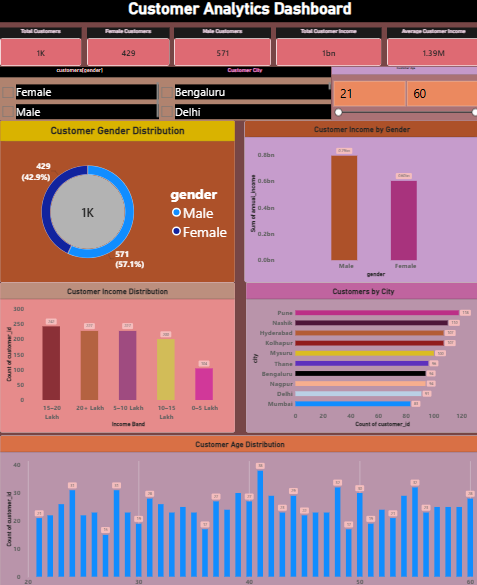

The dashboard page shown, as its layout file describes it:
{"tool":"powerbi","page":{"name":"Customers Analysis Dashboard","canvas":[1600,2000],"ordinal":3},"visuals":[{"type":"textbox","title":"Customer Analytics Dashboard","box":[0,0,1600,80],"z":0},{"type":"cardVisual","title":"Total Customers","fields":{"Data":["customers_measures.Total Customers"]},"box":[0,96.7,271.7,128.3],"z":1},{"type":"cardVisual","title":"Female Customers","fields":{"Data":["customers_measures.Female Customers"]},"box":[290,96.7,275,128.3],"z":2},{"type":"cardVisual","title":"Male Customers","fields":{"Data":["customers_measures.Male Customers"]},"box":[581.7,96.7,323.3,128.3],"z":3},{"type":"cardVisual","title":"Total Customer Income","fields":{"Data":["customers_measures.Total Customer Income"]},"box":[920,96.7,351.7,128.3],"z":4},{"type":"cardVisual","title":"Average Customer Income","fields":{"Data":["customers_measures.Average Customer Income"]},"box":[1288.3,96.7,311.7,128.3],"z":5},{"type":"donutChart","title":"Customer Gender Distribution","fields":{"Category":["Customers.gender"],"Y":["Count(Customers.customer_id)"]},"box":[0,406.7,783.3,540],"z":6},{"type":"clusteredColumnChart","title":"Customer Income by Gender","fields":{"Category":["Customers.gender"],"Y":["Sum(Customers.annual_income)"]},"box":[816.7,406.7,783.3,540],"z":7},{"type":"columnChart","title":"Customer Income Distribution","fields":{"Category":["Customers.Income Band"],"Y":["CountNonNull(Customers.customer_id)"]},"box":[0,945,783,500],"z":8},{"type":"clusteredBarChart","title":"Customers by City","fields":{"Category":["Customers.city"],"Y":["CountNonNull(Customers.customer_id)"]},"box":[817.5,945,782.5,500],"z":9},{"type":"clusteredColumnChart","title":"Customer Age Distribution","fields":{"Category":["Customers.age"],"Y":["CountNonNull(Customers.customer_id)"]},"box":[0,1455,1600,545],"z":10},{"type":"slicer","title":"customers[gender]","fields":{"Values":["Customers.gender"]},"box":[0,226.7,530,180],"z":11},{"type":"slicer","title":"Customer City","fields":{"Values":["Customers.city"]},"box":[530,226.7,573.3,180],"z":12},{"type":"slicer","title":"Customer Age","fields":{"Values":["Customers.age"]},"box":[1103.3,226.7,496.7,180],"z":13}]}

Visuals, with their boxes in screenshot pixels (x1, y1, x2, y2), scaled from the page's 1600x2000 canvas onto the 477x585 screenshot:
"Customer Analytics Dashboard" textbox: (left=0, top=0, right=476, bottom=23)
"Total Customers" cardVisual: (left=0, top=28, right=81, bottom=66)
"Female Customers" cardVisual: (left=86, top=28, right=168, bottom=66)
"Male Customers" cardVisual: (left=173, top=28, right=270, bottom=66)
"Total Customer Income" cardVisual: (left=274, top=28, right=379, bottom=66)
"Average Customer Income" cardVisual: (left=384, top=28, right=476, bottom=66)
"Customer Gender Distribution" donutChart: (left=0, top=119, right=234, bottom=277)
"Customer Income by Gender" clusteredColumnChart: (left=243, top=119, right=476, bottom=277)
"Customer Income Distribution" columnChart: (left=0, top=276, right=233, bottom=423)
"Customers by City" clusteredBarChart: (left=244, top=276, right=476, bottom=423)
"Customer Age Distribution" clusteredColumnChart: (left=0, top=426, right=476, bottom=584)
"customers[gender]" slicer: (left=0, top=66, right=158, bottom=119)
"Customer City" slicer: (left=158, top=66, right=329, bottom=119)
"Customer Age" slicer: (left=329, top=66, right=476, bottom=119)
